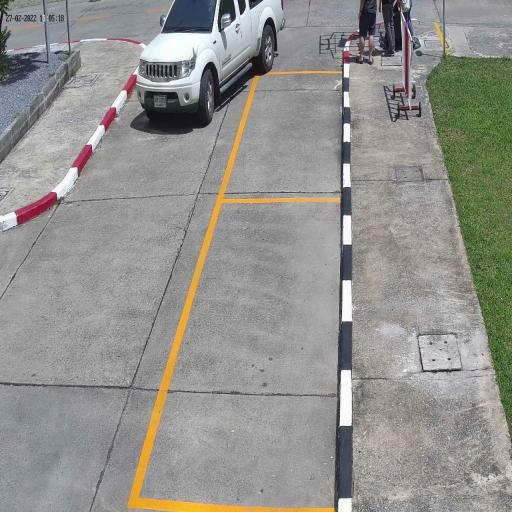car: (136, 0, 285, 123)
